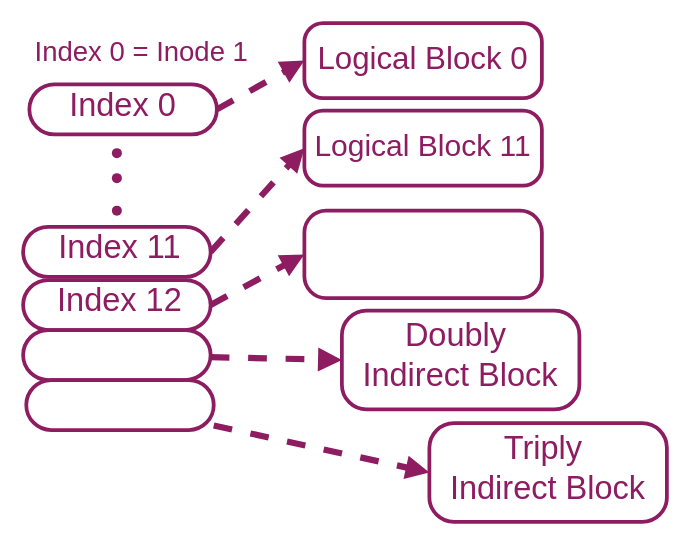
The diagram is 690 pixels wide and 545 high, and some of its shapes have lost their labels. Each missing label, with the centre of its shape:
Index 13: pixel 116 354
Index 14: pixel 119 404
Indirect Block: pixel 422 253
